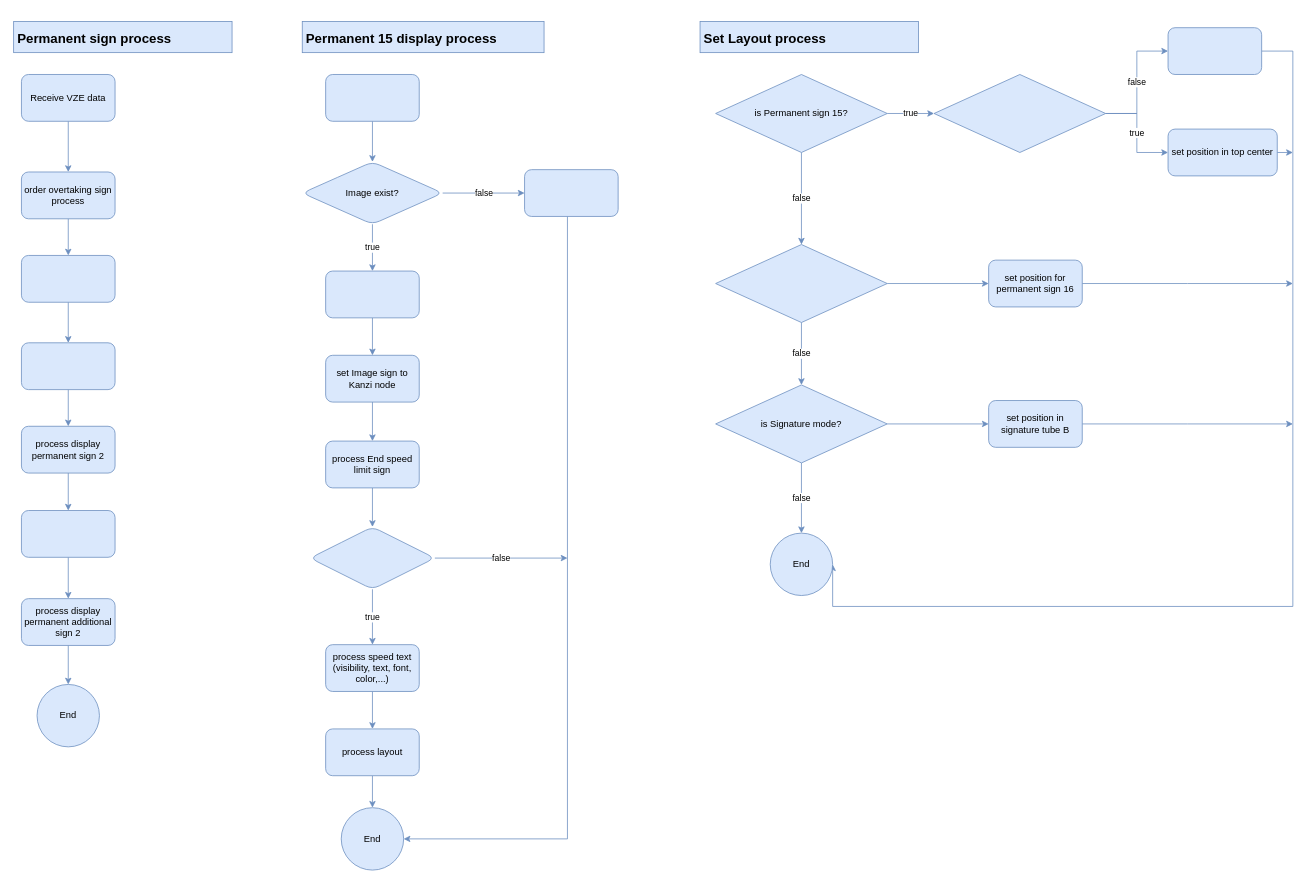
The diagram is 1313 pixels wide and 884 high, and some of its shapes have lost their labels. The shapes that lost their labels are listed below. From the top down, each one's centre as x and y in pixels, then its label:
At point (1214, 50): "set position in top left".
At point (372, 97): "update Image Sign Path".
At point (1019, 113): "is Pure without Active Route guidance?".
At point (571, 192): "Set invisible to Kanzi node".
At point (68, 278): "process display permanent sign 1".
At point (372, 294): "Set visible to Kanzi node".
At point (801, 283): "is Permanent sign 16?".
At point (68, 366): "process display speed limit warning".
At point (68, 533): "process display permanent additional sign 1".
At point (372, 557): "Have speed text?".
